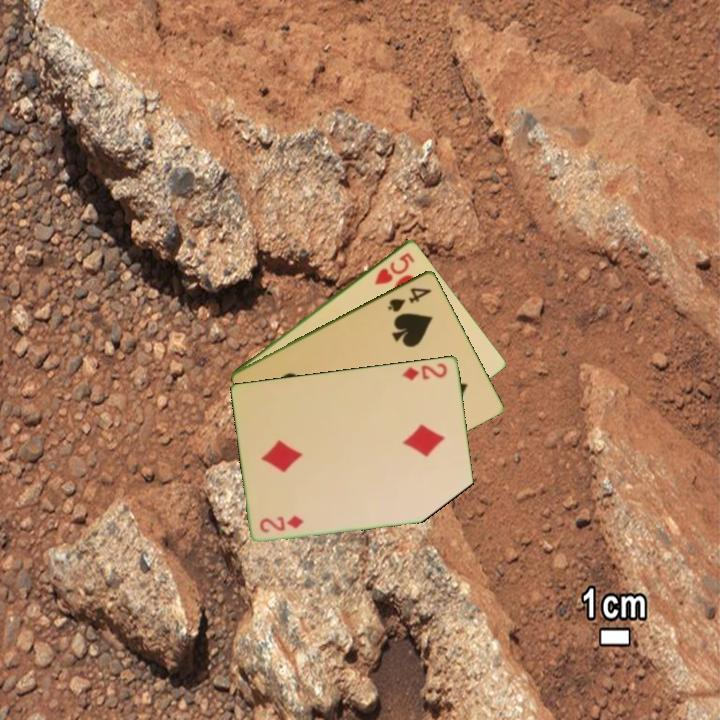2d: (399, 359, 450, 383), (256, 512, 306, 535)
4s: (384, 283, 435, 315)
5h: (371, 248, 417, 287)
